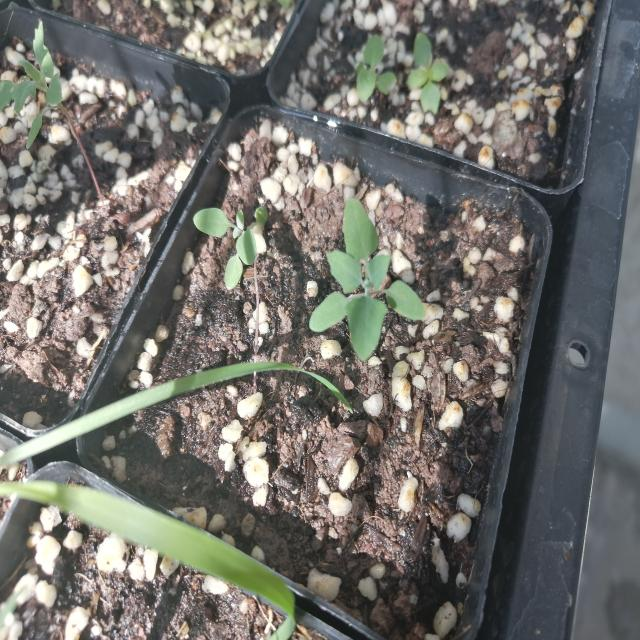goosefoots: (292, 178, 434, 376), (179, 189, 281, 299)
